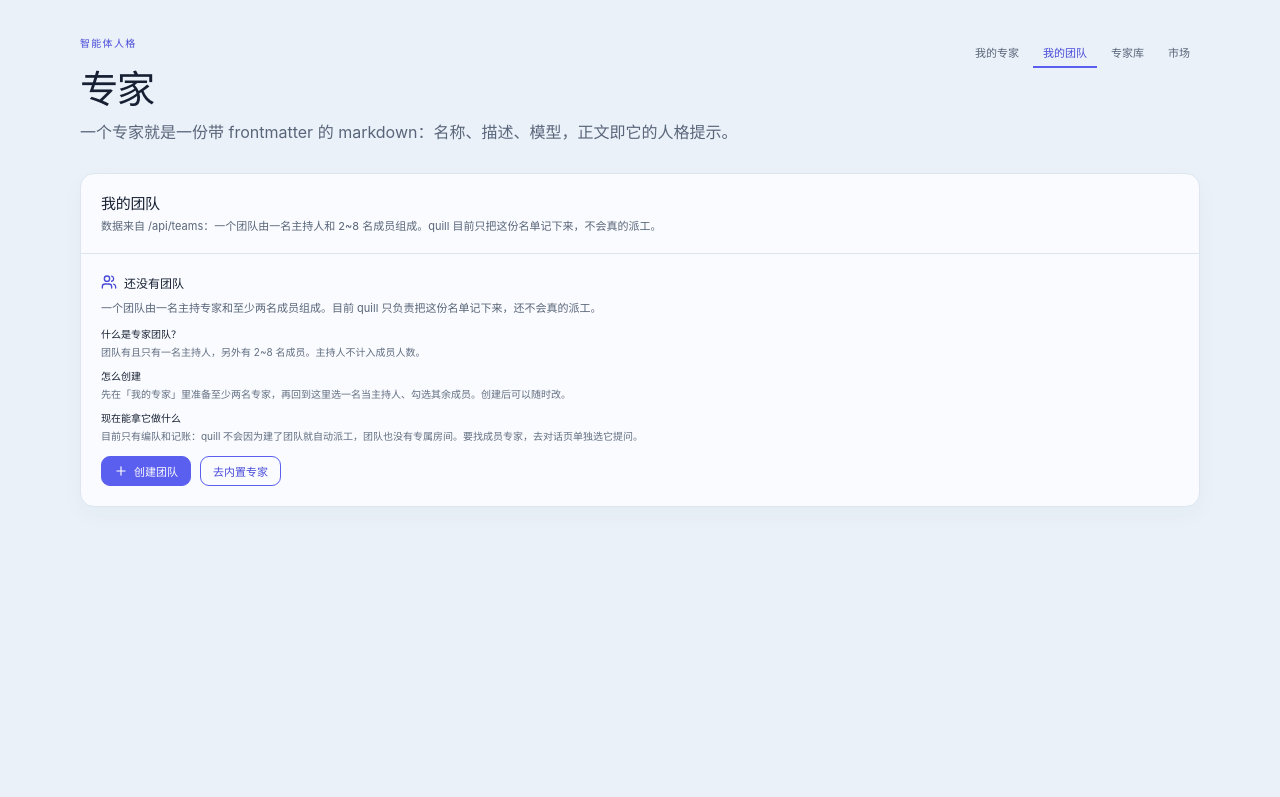
Test: 主持人不能同时被选为成员
Click the button with test id "teams-new". click: coordinates (146, 471)
box: [101,456,191,486]
(page scrolled)
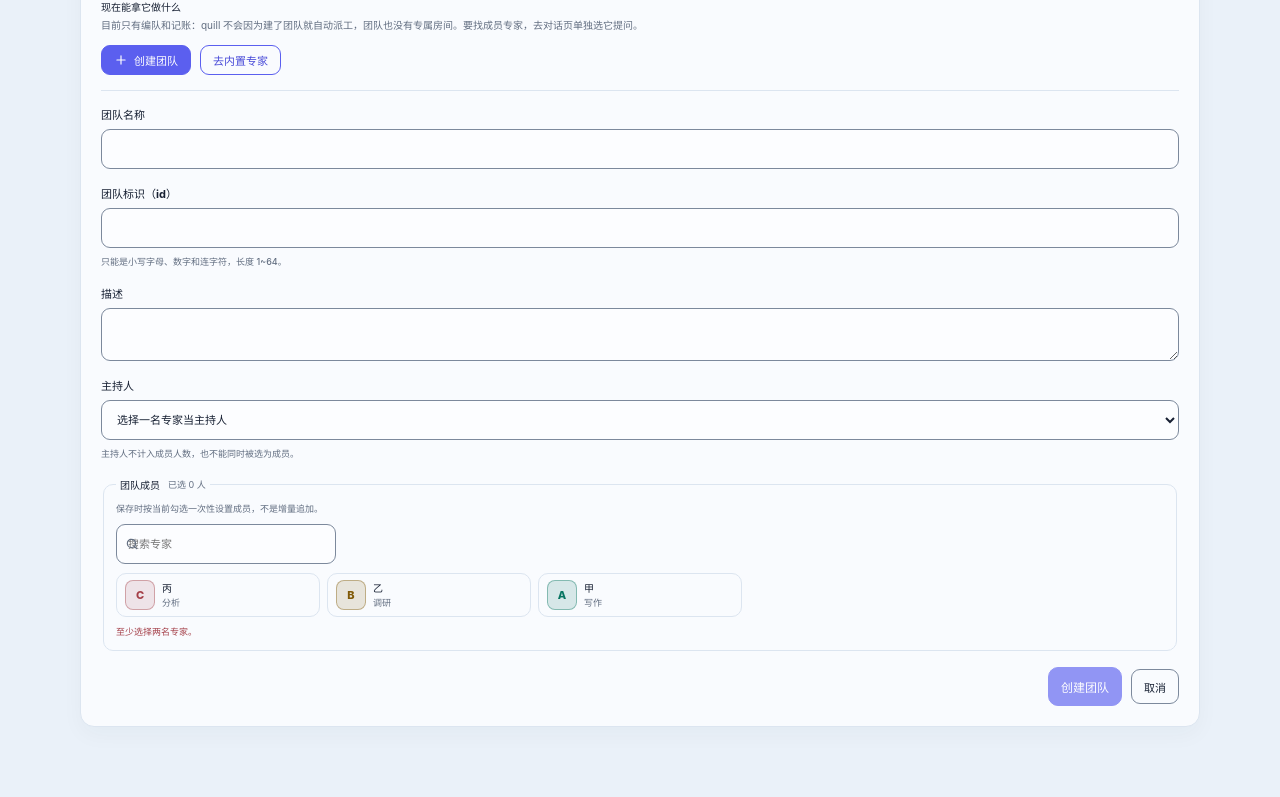
Select "甲" in the dropdown named "leader_id". click: coordinates (640, 420)
box: [101,400,1179,440]
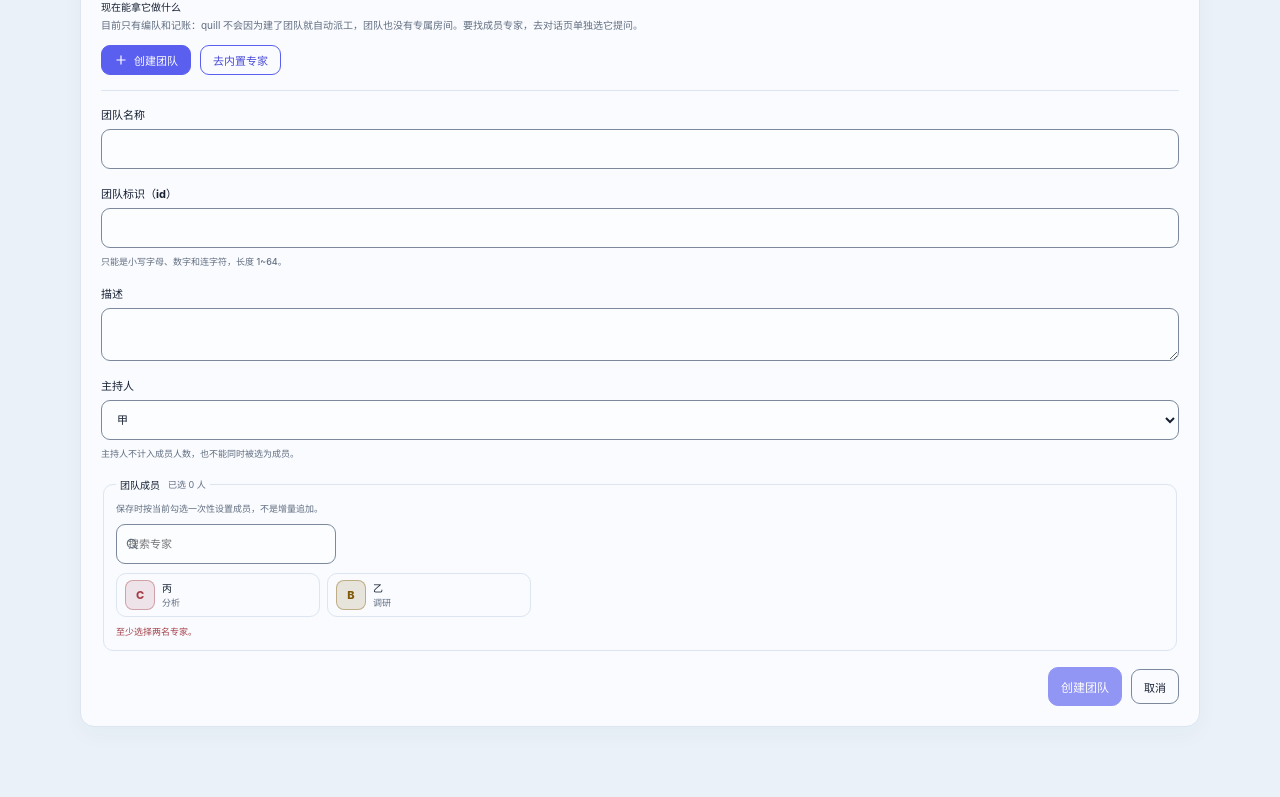
Type "甲" into the search field labelled "搜索专家". click: coordinates (226, 544)
box: [116,524,336,564]
(page scrolled)
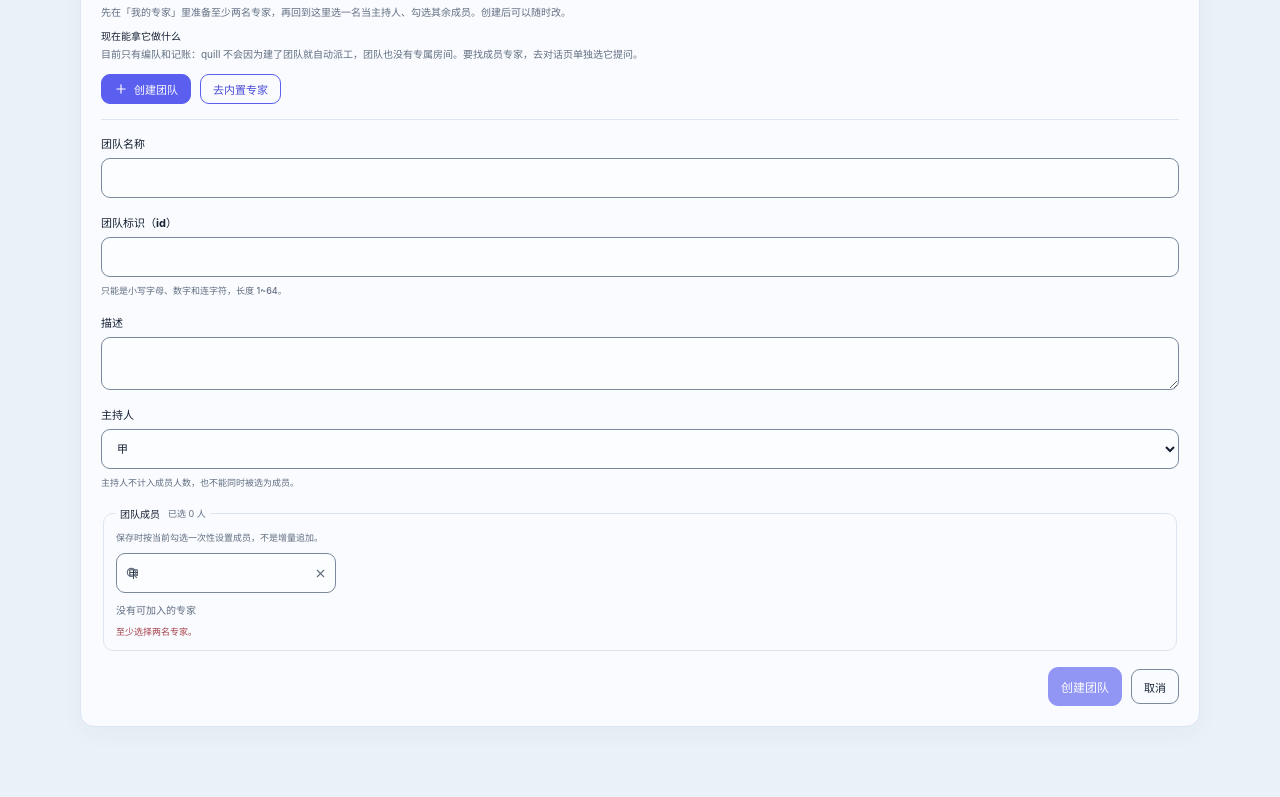
Replace the text in the search field named "搜索专家" with "乙". click: coordinates (226, 573)
box: [116,553,336,593]
(page scrolled)
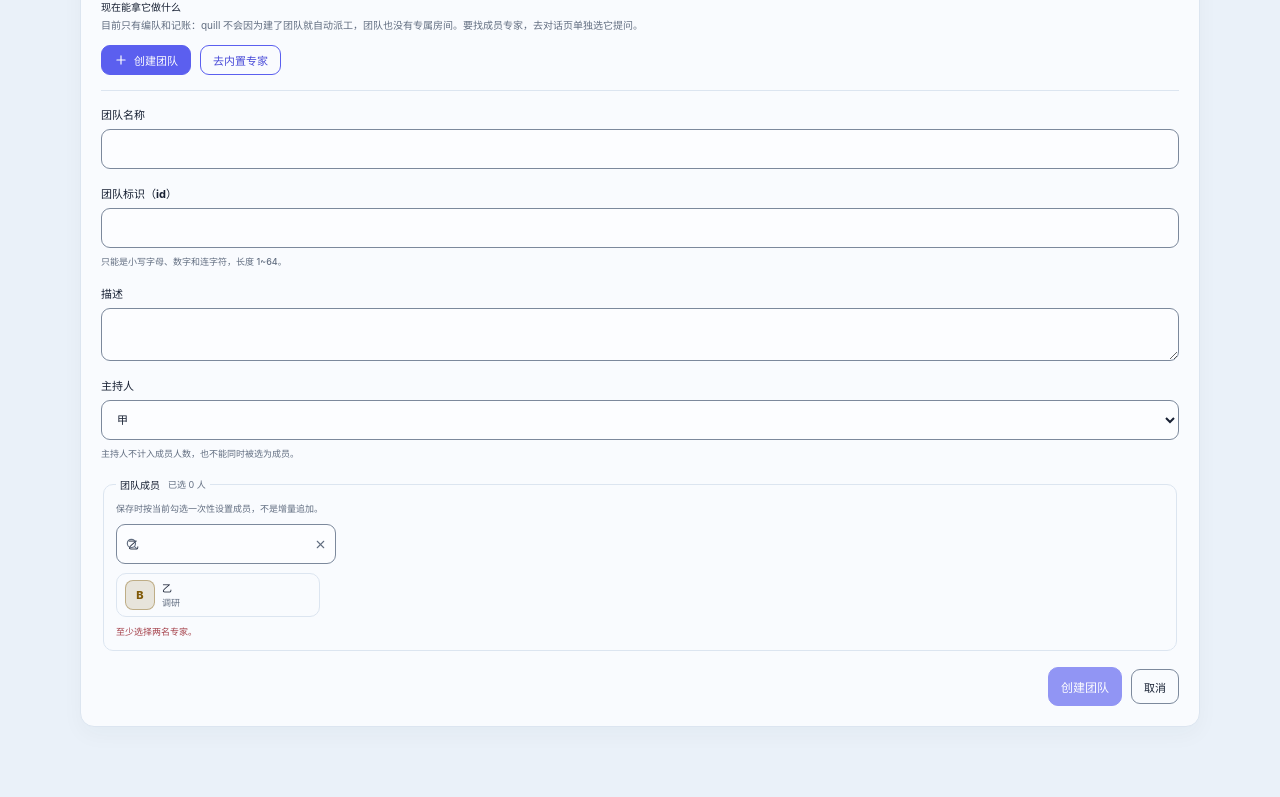
Click the button "B 乙 调研". click: coordinates (218, 595)
box: [116,573,320,617]
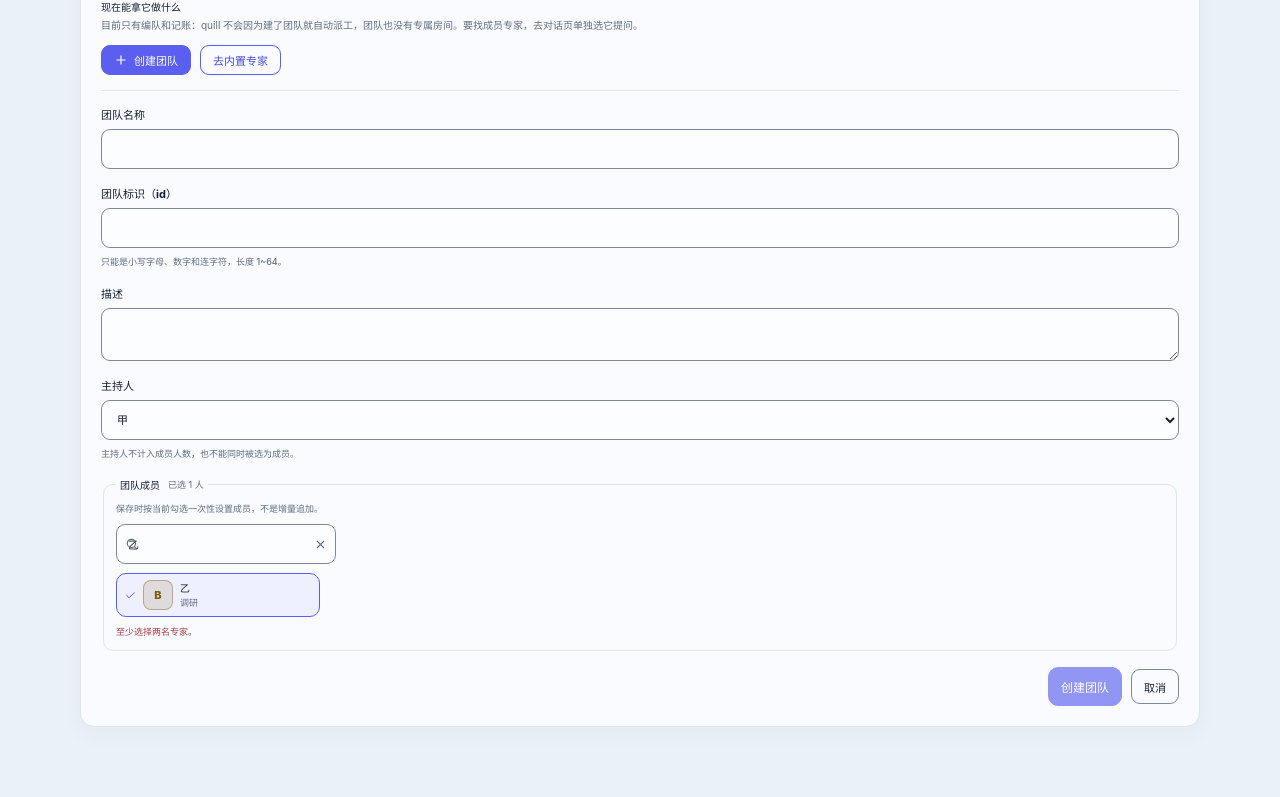
Check: the text "已选 1 人" is shown, box [168,478,204,491]
Select "乙" in the dropdown named "leader_id". click: coordinates (640, 420)
box: [101,400,1179,440]
(page scrolled)
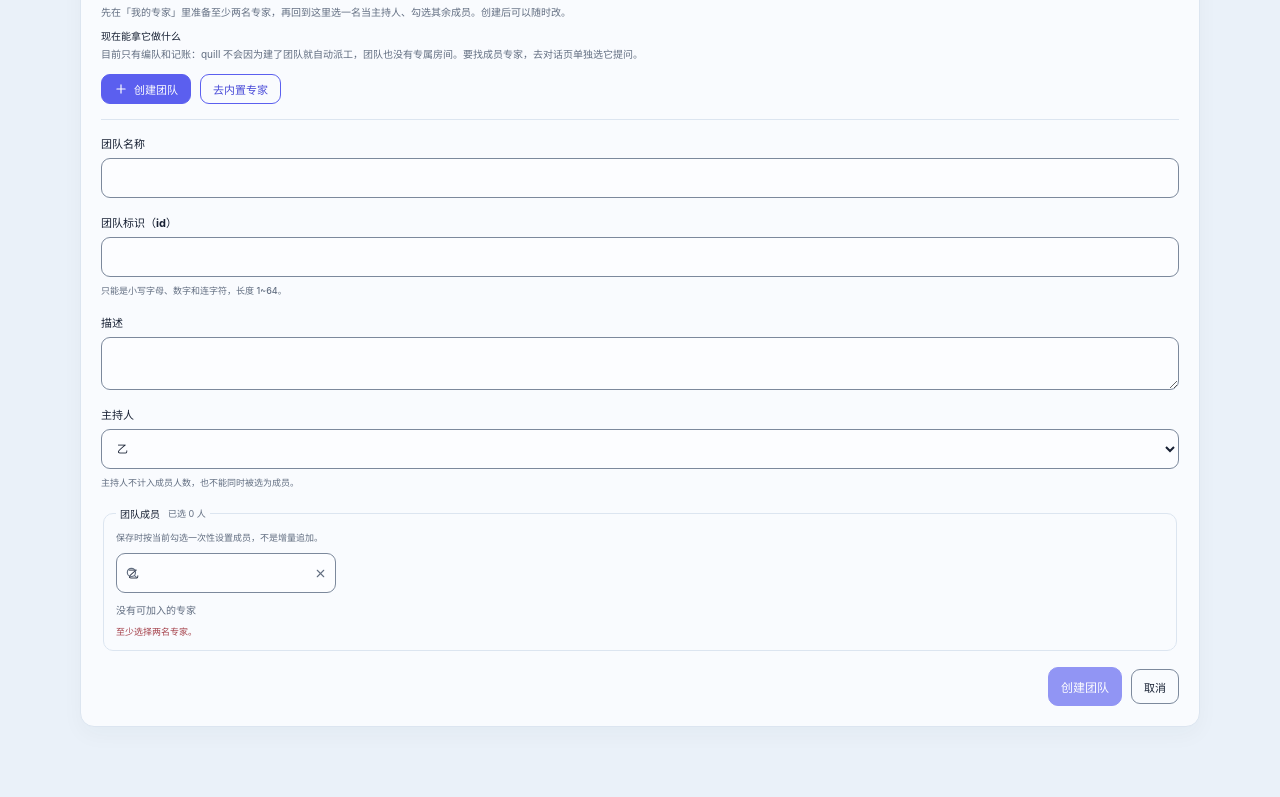
Check: the text "已选 0 人" is shown, box [168,507,206,520]
